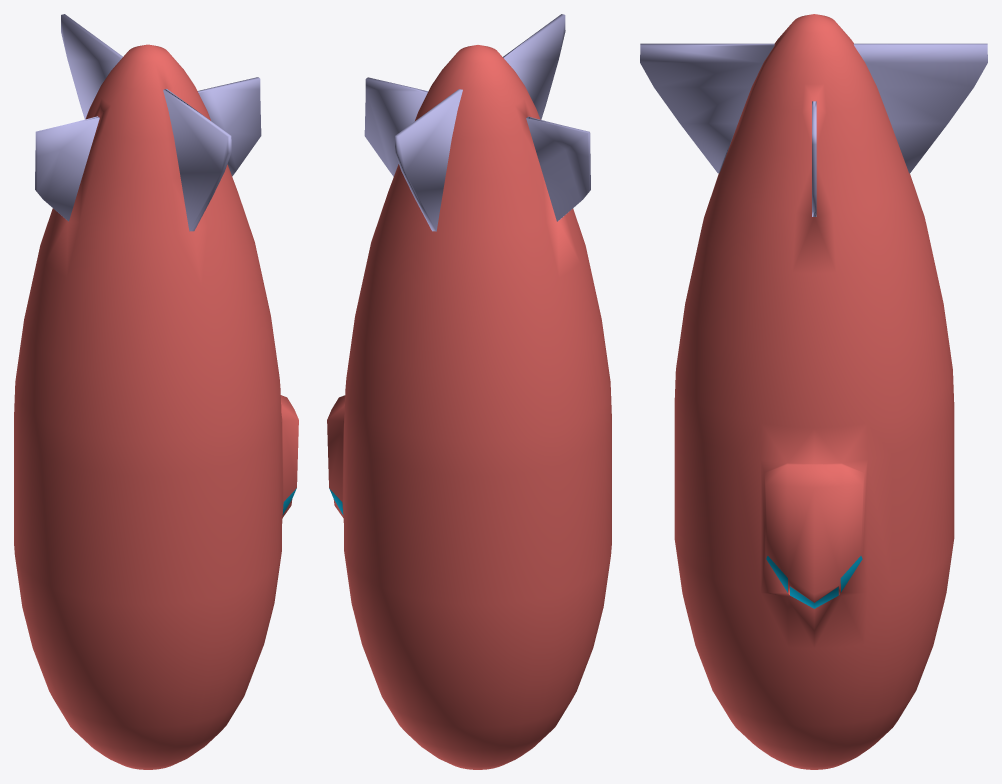
File: blimp2.dae
3 views of the same model, side by side, from view 1: azimuth 30°, elevation 25°; view 2: azimuth 150°, elevation 25°; view 3: azimuth 270°, elevation 25° (orthographic). The views are drawn at different scales.
Parts seen in each view (by area): view 1: Circle; view 2: Circle; view 3: Circle.
Boxes of the visible parts, x1,y1,x2,y2 form: Circle: (14, 14, 298, 769); Circle: (327, 14, 611, 769); Circle: (640, 14, 987, 769).
Size of the model in its own units: 3.33 by 3.77 by 8.95.
